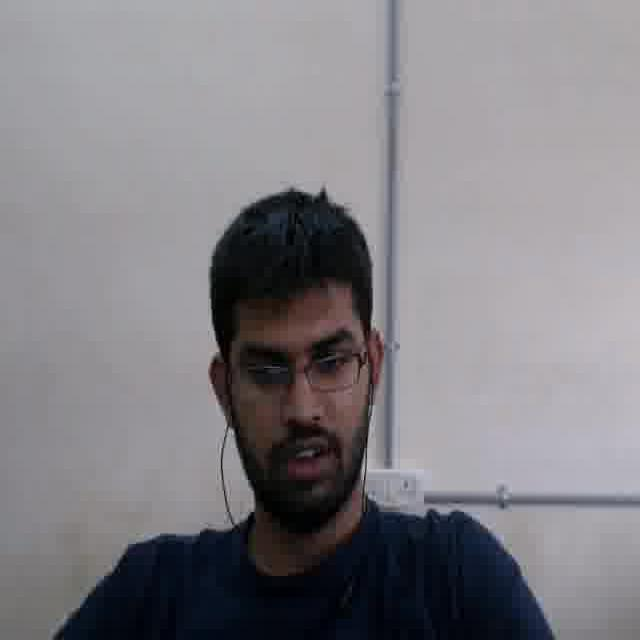Engaged: (228, 284, 365, 512)
